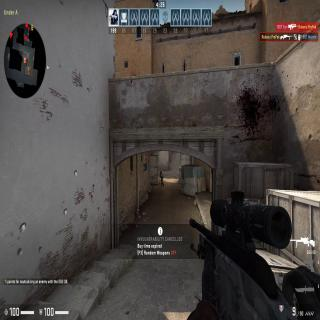CT-Body: (159, 170, 164, 188)
CT-Head: (160, 170, 162, 173)
